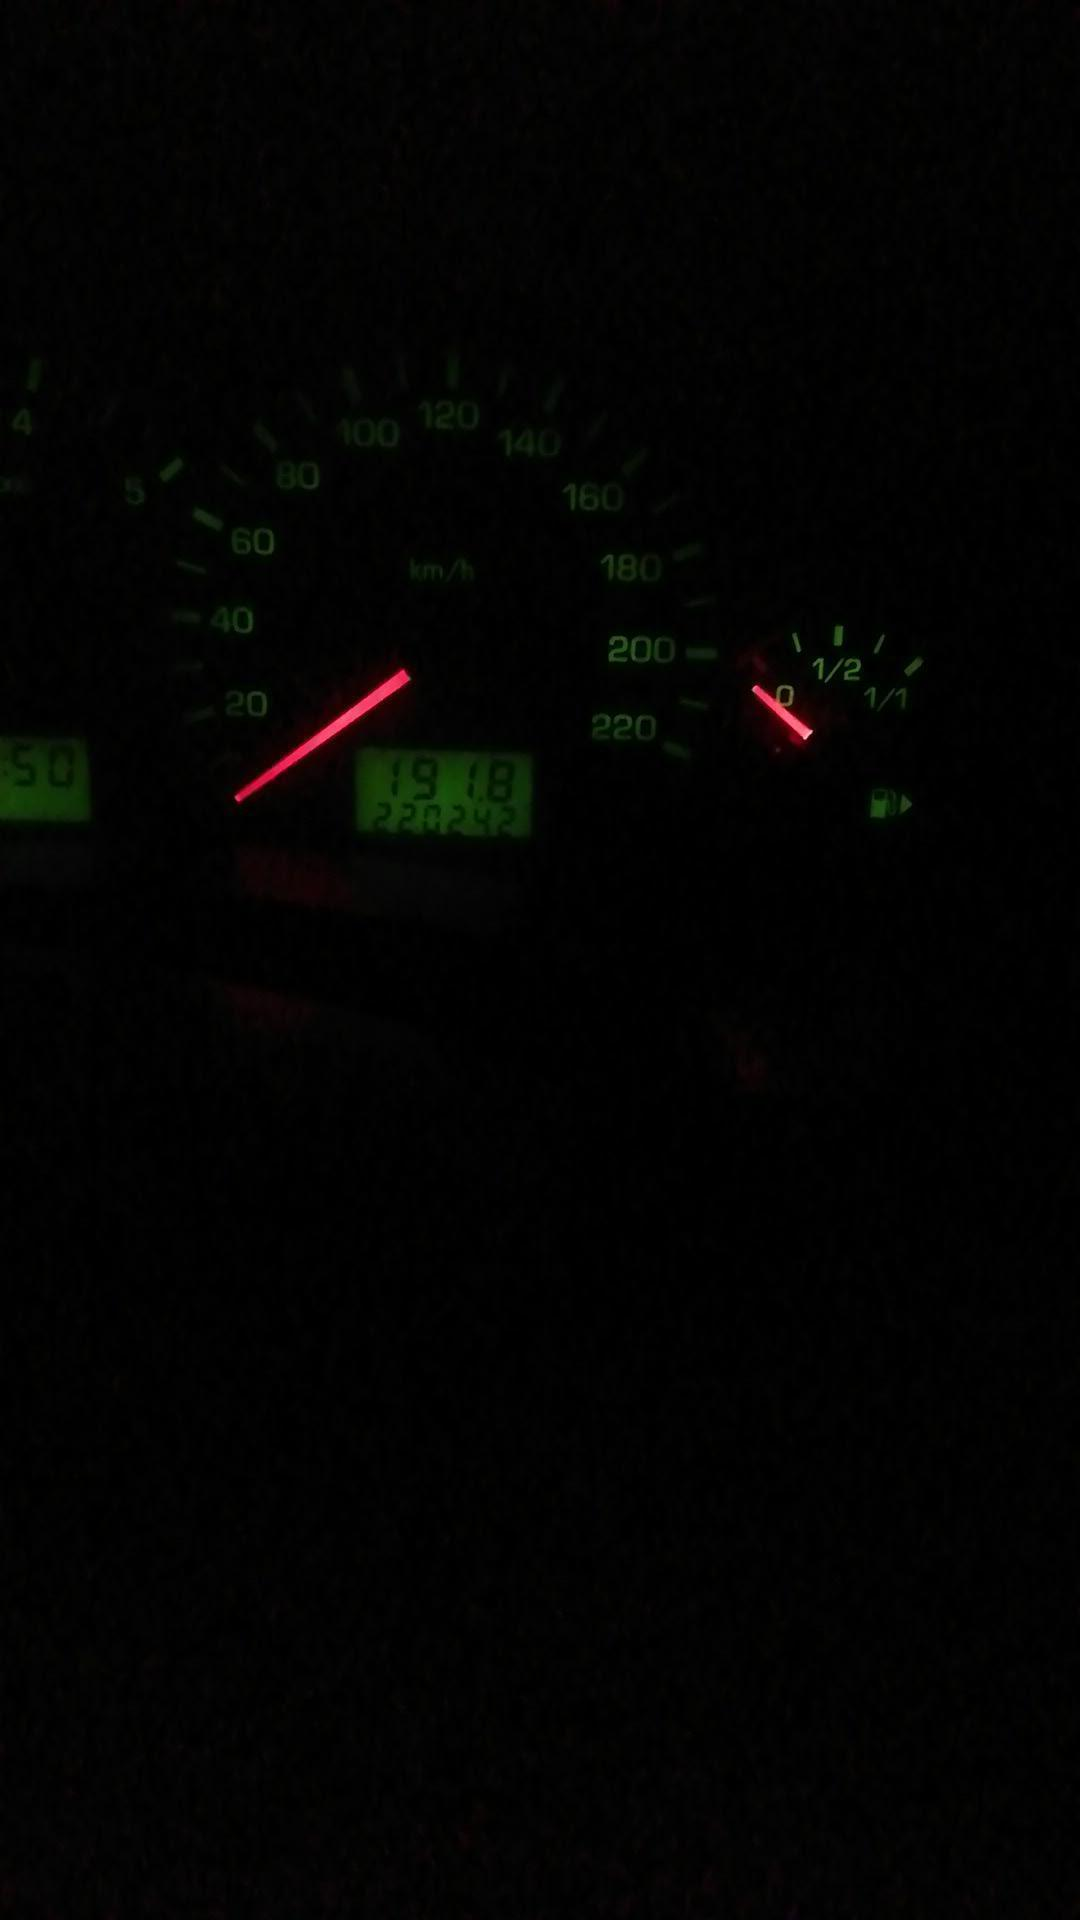,: (477, 795, 484, 802)
0: (423, 803, 440, 833)
1: (465, 758, 477, 799), (390, 758, 400, 796)
2: (372, 800, 392, 833), (496, 804, 516, 836), (446, 803, 465, 835), (397, 802, 415, 833)
4: (471, 806, 491, 836)
8: (488, 760, 514, 800)
9: (411, 758, 436, 800)
odometer: (348, 741, 537, 847)
